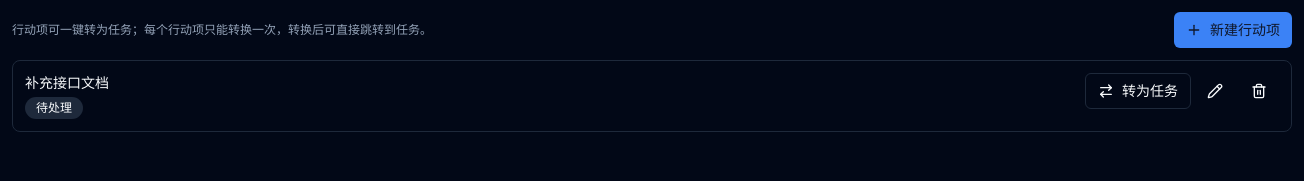
ActionItemSection › surfaces a rejected conversion and leaves the item convertible
Click the button "转为任务": (1138, 91) left=1085, top=73, right=1191, bottom=109
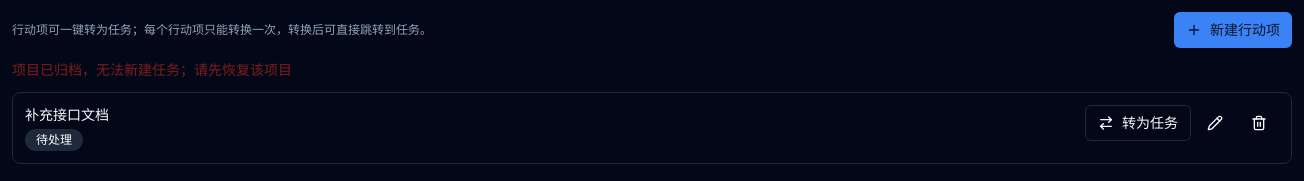
Expected: the button "转为任务" is enabled, left=1085, top=105, right=1191, bottom=141
Result: the text "项目已归档，无法新建任务；请先恢复该项目" is shown at left=12, top=60, right=292, bottom=79
